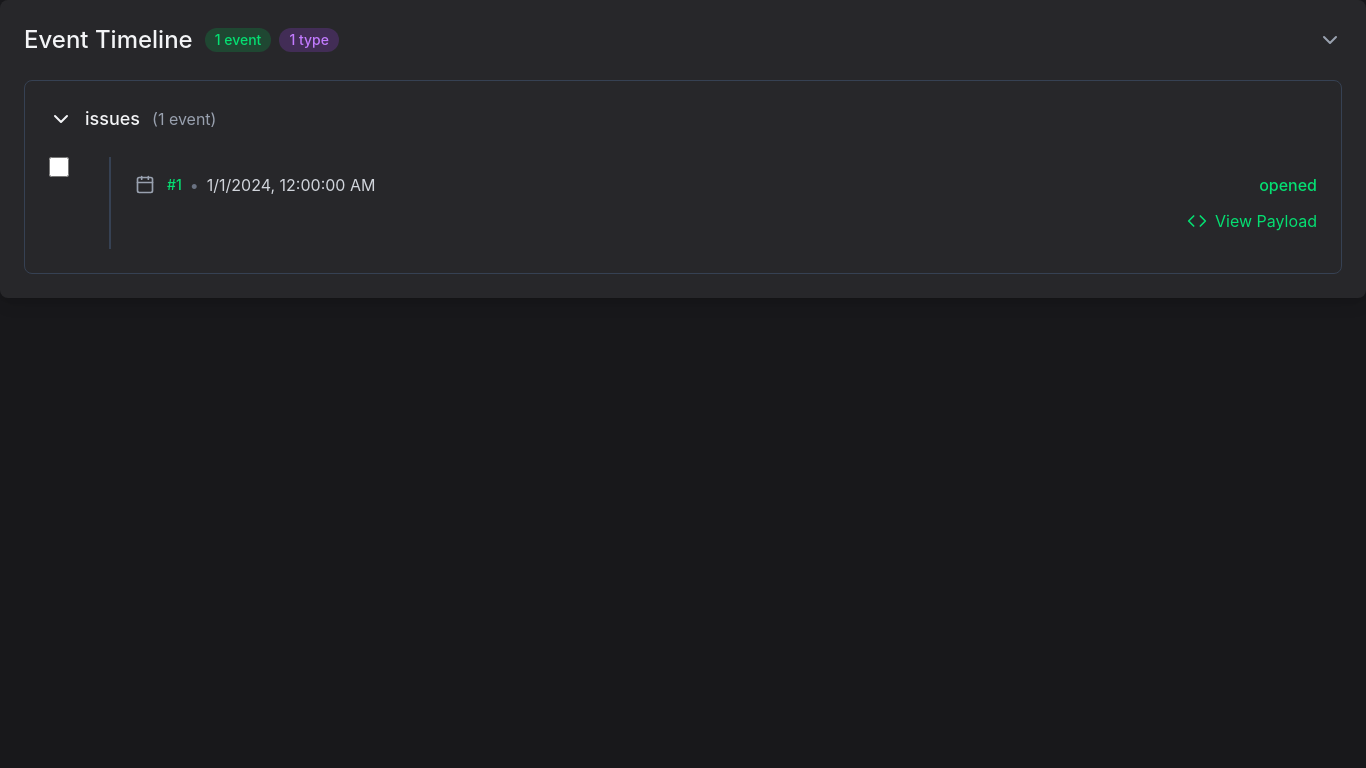
Test: EventList › opens the payload modal when View Payload is clicked
Click the button "View Payload": (1252, 221) [1187,209,1317,233]
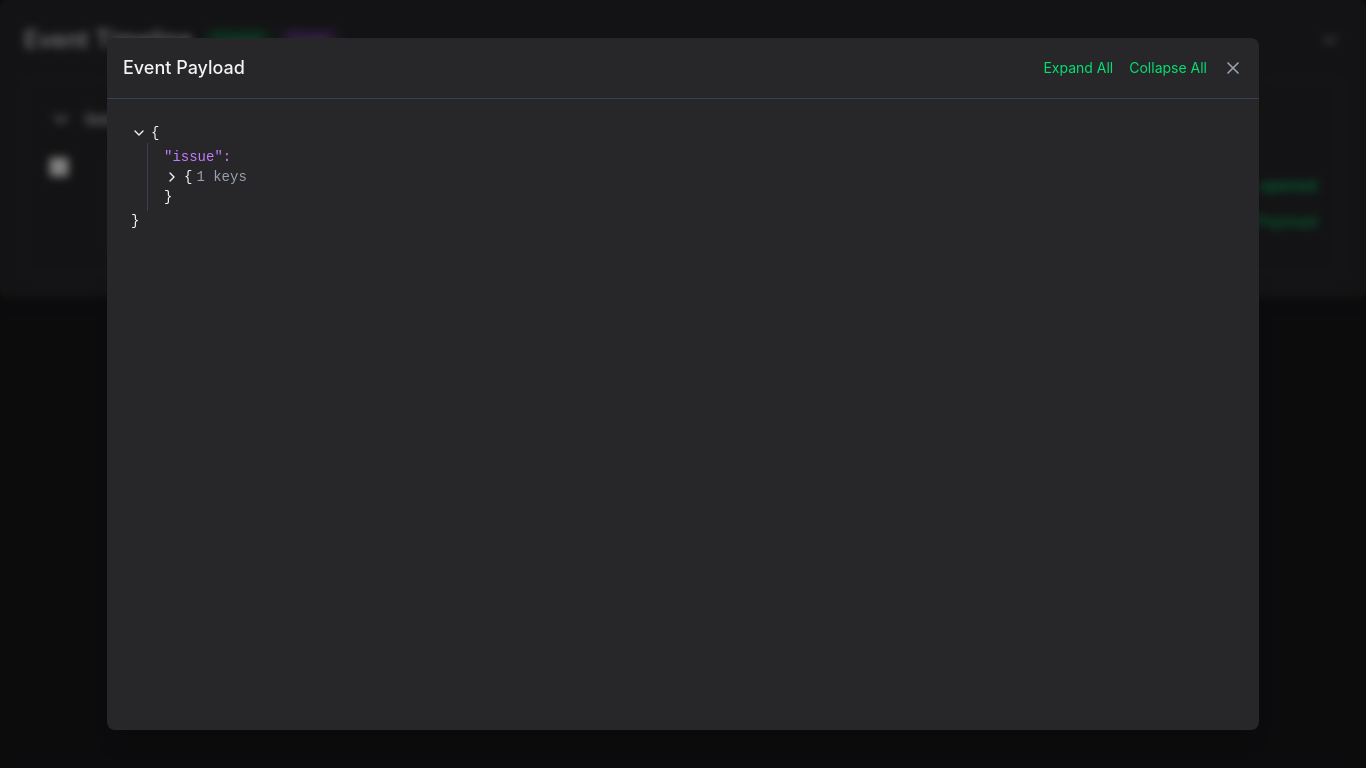
Check: the heading "Event Payload" is shown, box [123,54,245,82]
